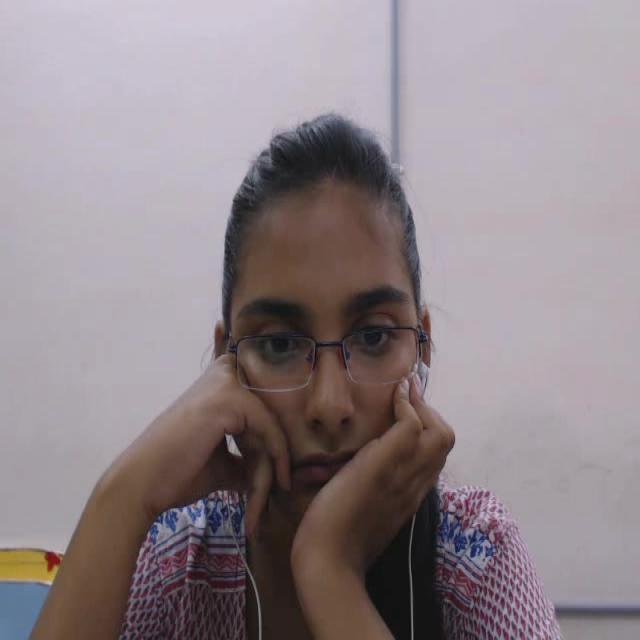Bored: (196, 64, 505, 640)
